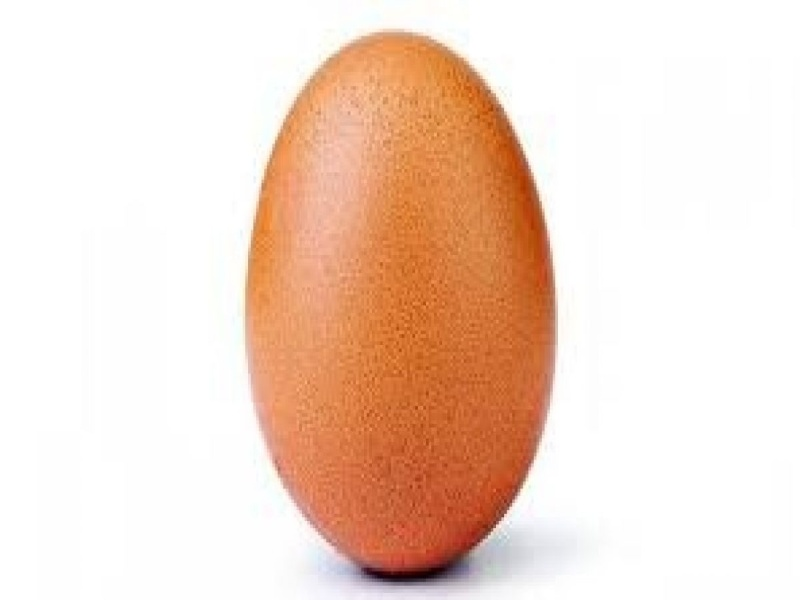Huevo: (244, 29, 559, 581)
